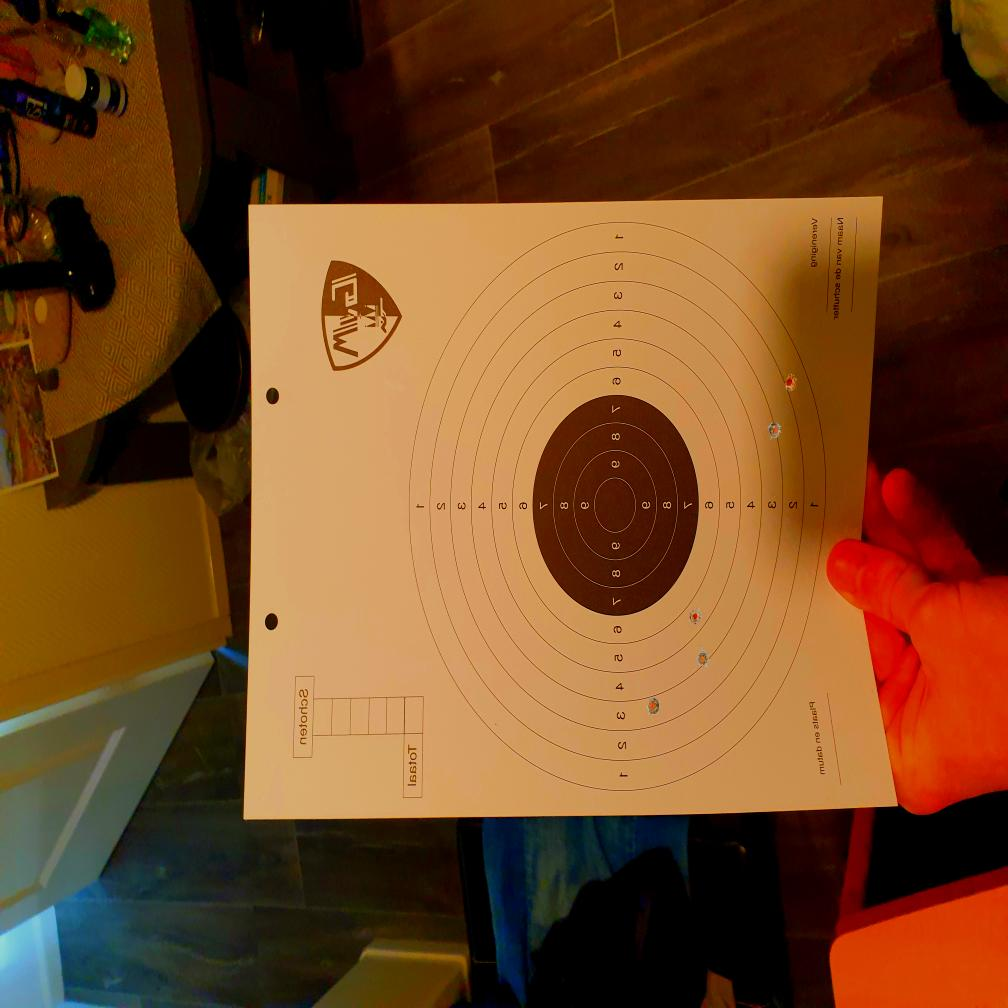2: (784, 372, 797, 391)
3: (646, 697, 660, 716), (768, 422, 782, 440)
4: (697, 650, 709, 668)
5: (687, 607, 702, 629)
Target: (408, 223, 826, 796)
black_contour: (532, 396, 699, 616)
